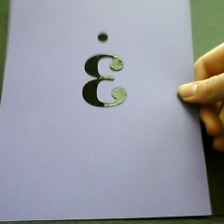violet3: (74, 30, 134, 114)
